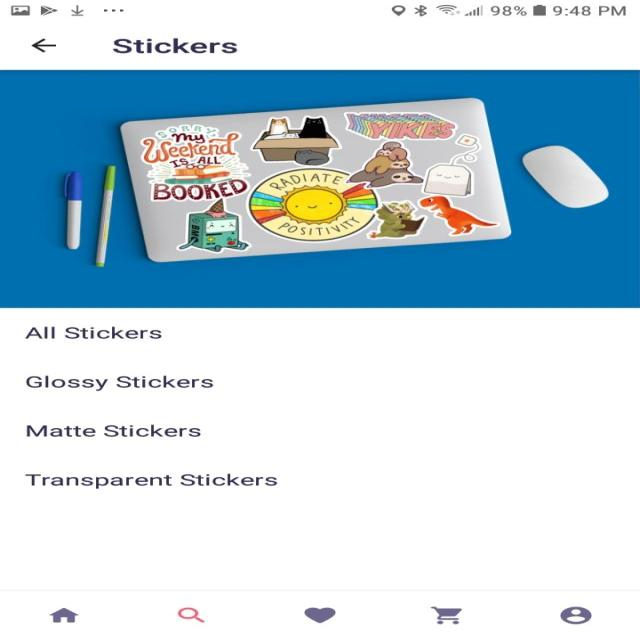Icon: (430, 606, 462, 625), (559, 606, 591, 624), (303, 606, 336, 623), (177, 606, 204, 623), (50, 608, 80, 622), (31, 38, 57, 52)
Image: (0, 70, 639, 308)
Text: (24, 473, 278, 489), (25, 374, 214, 391), (26, 424, 201, 437), (111, 38, 238, 54), (24, 326, 162, 339)
